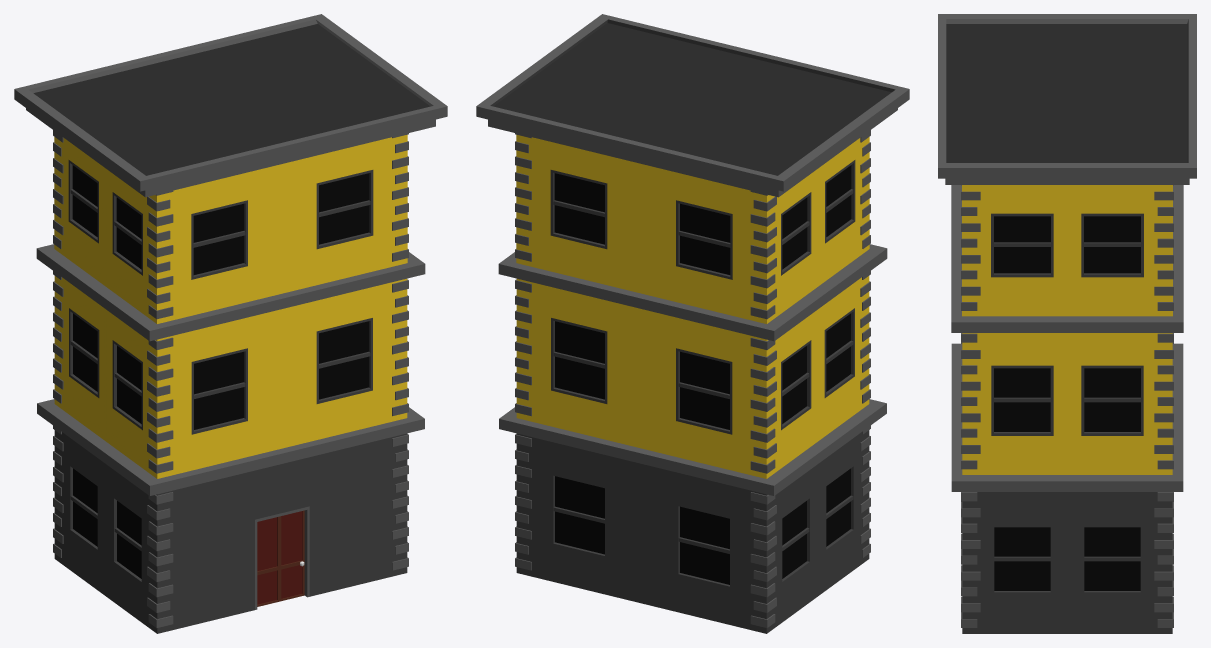
The model's file is Building_1.fbx.
3 renders of one model, left to right at view 1: azimuth 30°, elevation 25°; view 2: azimuth 150°, elevation 25°; view 3: azimuth 270°, elevation 25°, orthographic. The views are drawn at different scales.
Parts seen in each view (by area): view 1: Cube; view 2: Cube; view 3: Cube.
Part boxes in pixels (<box>): Cube: <box>14,14,447,633</box>; Cube: <box>476,14,909,633</box>; Cube: <box>938,14,1196,633</box>.
Size of the model in its own units: 935 by 1360 by 664.
